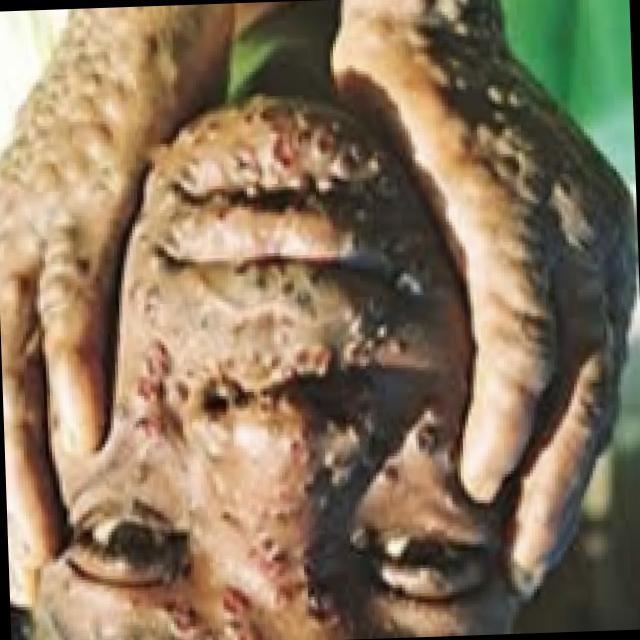Eczema: (23, 13, 540, 640)
